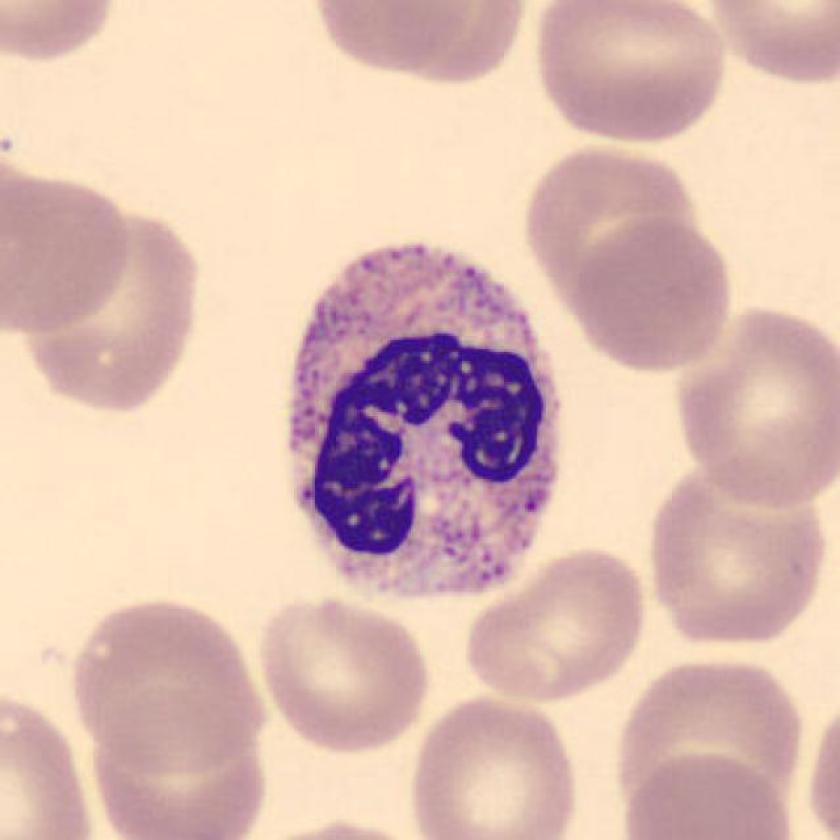neutrophil: (290, 243, 563, 596)
